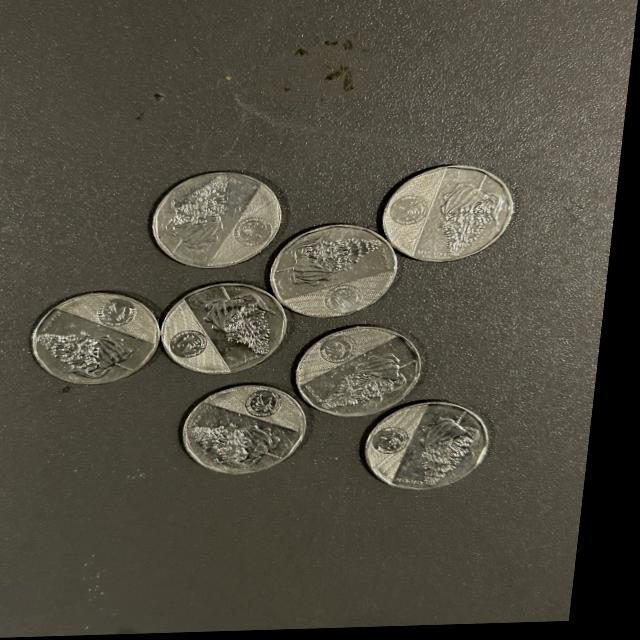10_New_Back: (196, 381, 315, 466), (303, 333, 418, 415), (287, 234, 412, 301), (380, 415, 502, 483), (62, 296, 160, 376), (412, 177, 506, 259), (168, 189, 283, 255)
